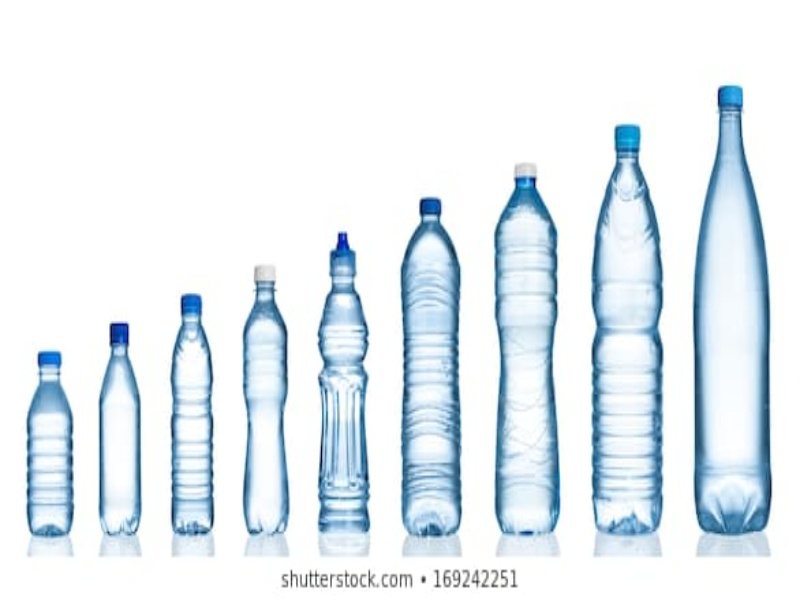bottle-cap: (614, 122, 643, 152), (719, 86, 744, 112), (105, 320, 134, 342), (420, 198, 446, 219), (252, 264, 279, 282), (181, 295, 203, 316), (34, 351, 62, 366), (510, 164, 540, 178)
plastic-bottle: (690, 84, 777, 537), (587, 120, 670, 535), (489, 159, 562, 536), (398, 195, 465, 539), (314, 230, 377, 537), (237, 262, 295, 536), (168, 293, 219, 538), (19, 349, 80, 538), (97, 322, 146, 536)
